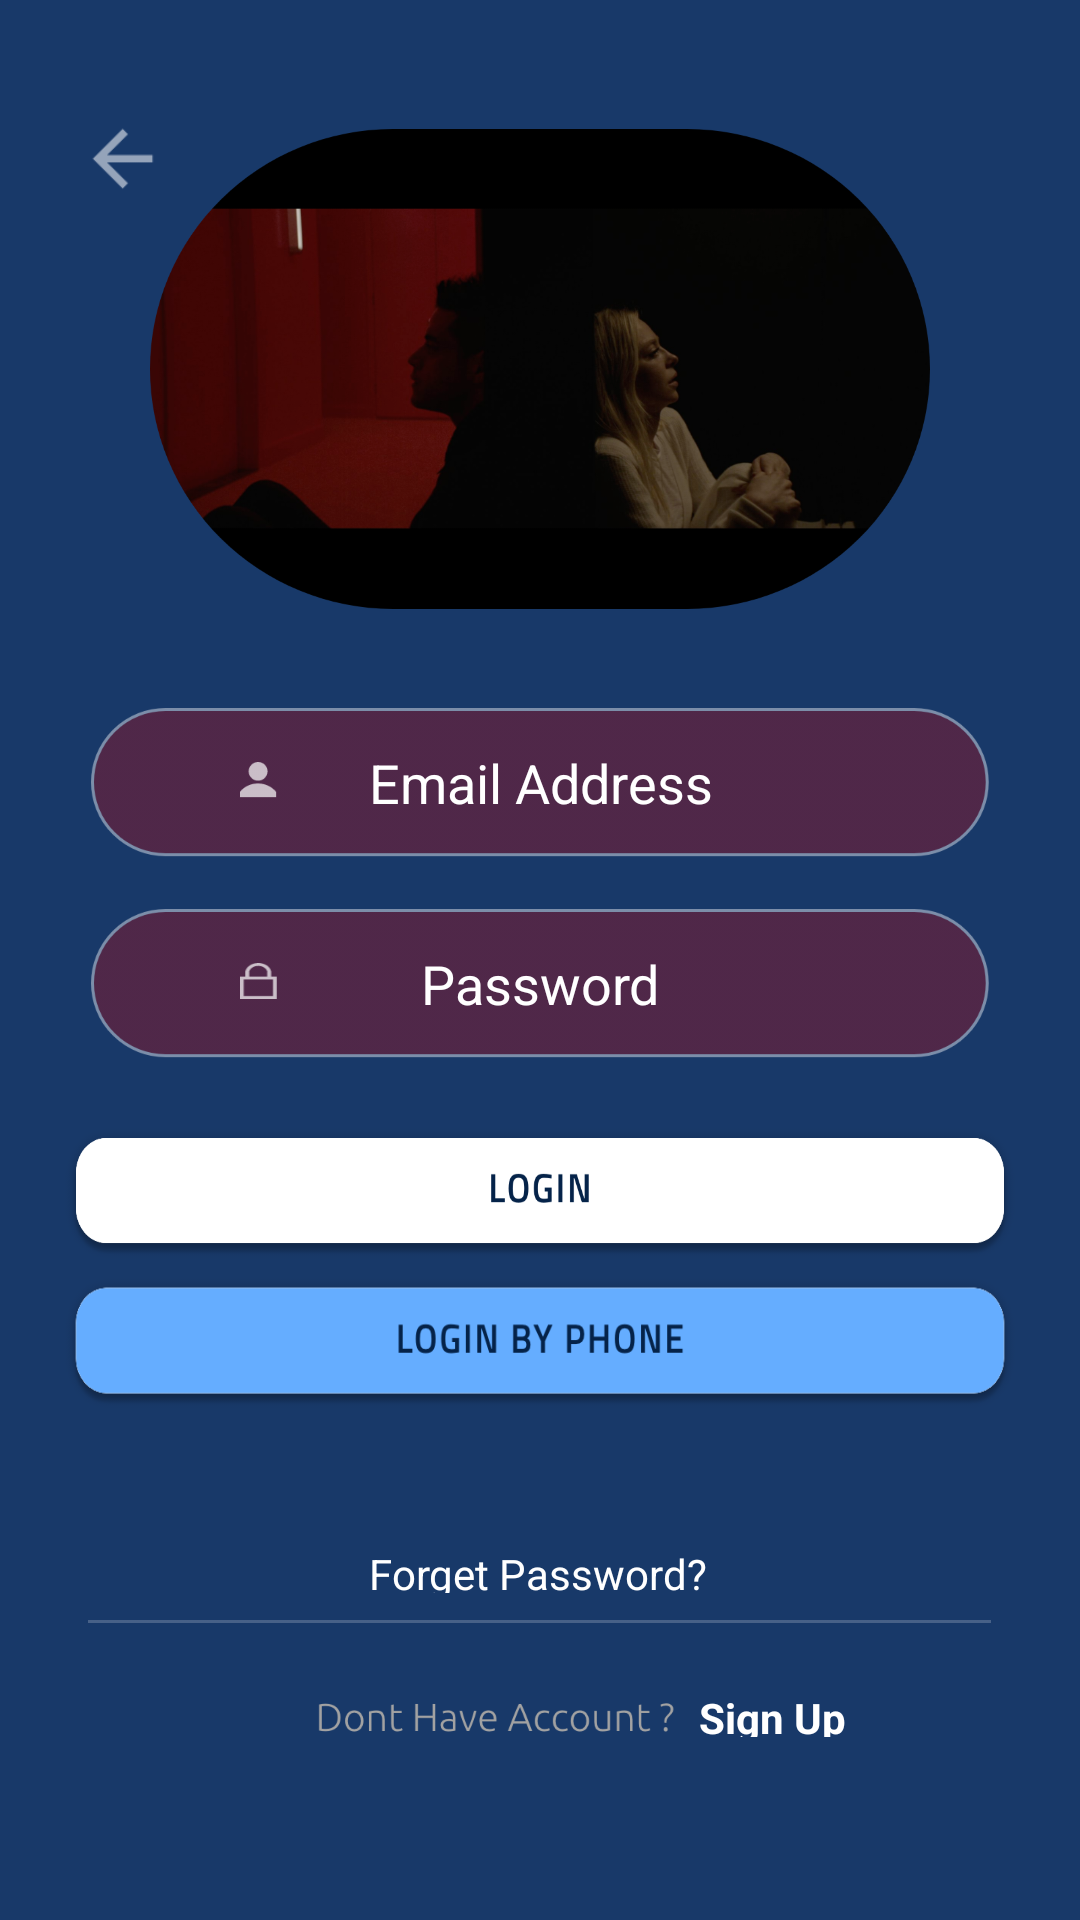

Icons on this 1080 × 1920 Android screen, each with its box as (x1, y1, x2, y2):
arrow: (93, 129, 153, 189)
